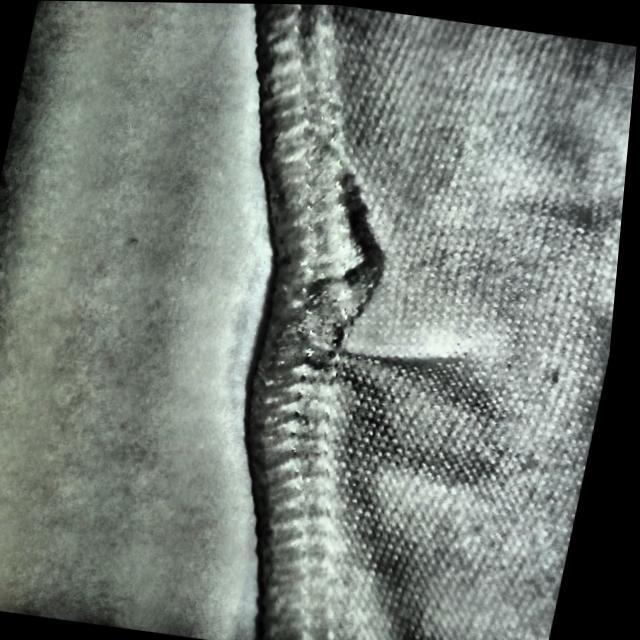seam: (238, 161, 485, 424)
